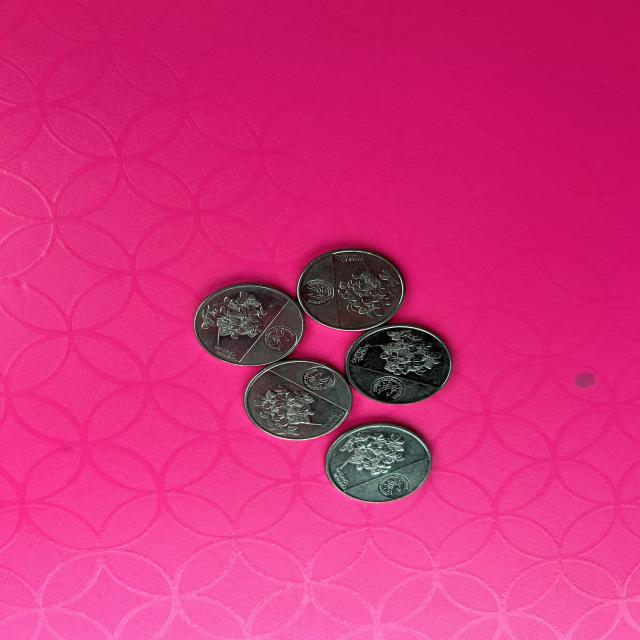1_New_Back: (342, 260, 408, 324), (371, 327, 436, 379), (250, 380, 313, 433), (331, 431, 403, 473), (201, 293, 263, 339)
